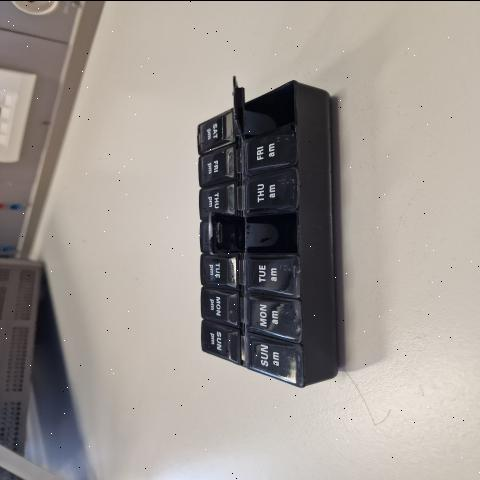Open: (207, 207, 296, 251), (234, 76, 297, 138)
